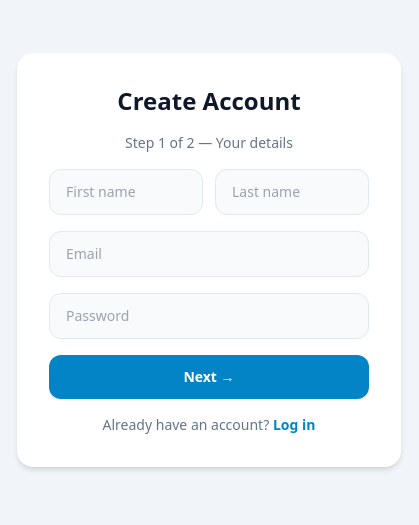
SignupPage Integration Tests › should complete step 1 and advance to step 2 (location selector)
This screenshot has width=419, height=525.
// fill all required fields
Type "John" into the field with placeholder "First name" at (126, 192), box [49,169,203,215]
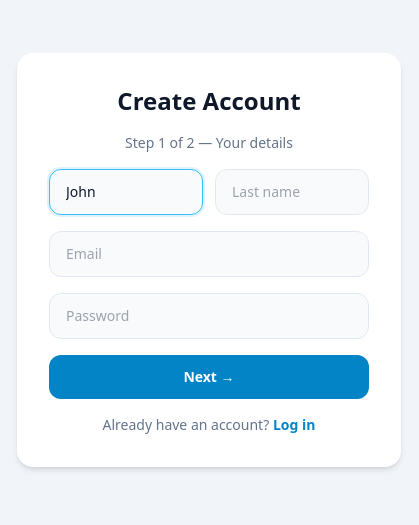
Type "Doe" into the field with placeholder "Last name" at (292, 192), box [215,169,369,215]
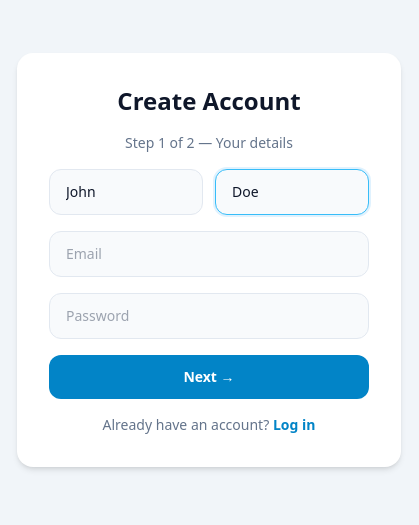
Type "newuser@example.com" into the field with placeholder "Email" at (209, 254), box [49,231,369,277]
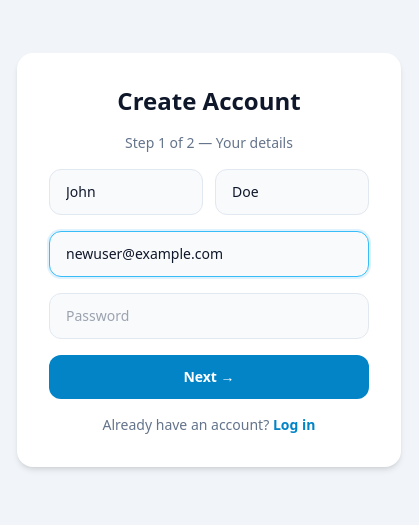
Type "SecurePass123!" into the password field with placeholder "Password" at (209, 316), box [49,293,369,339]
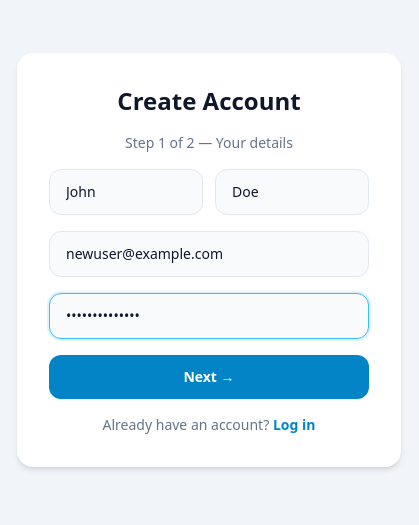
Click the button "Next →" at (209, 377), box [49,355,369,399]
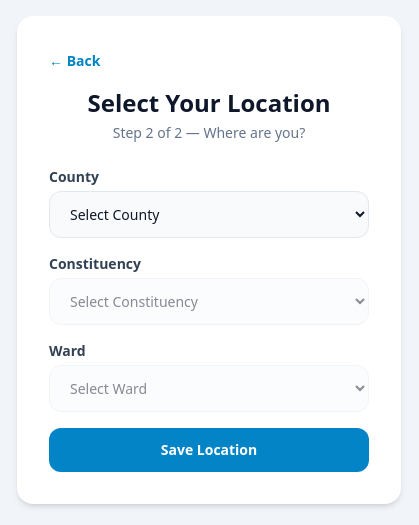
Expected: the heading "Select Your Location" is shown, [88,86,331,119]
